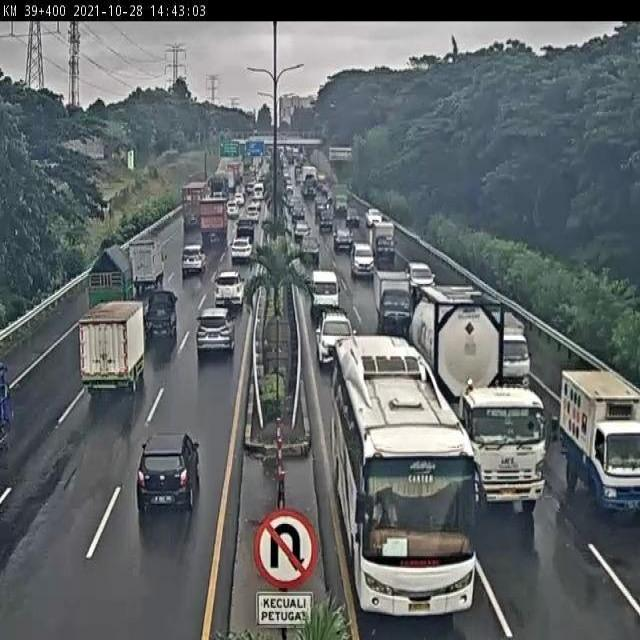bus-l-: (332, 337, 482, 619)
car: (135, 428, 201, 516), (318, 312, 356, 365), (196, 307, 235, 356), (310, 269, 340, 316), (214, 274, 246, 306), (350, 243, 376, 280), (407, 263, 436, 293), (182, 244, 206, 276), (300, 235, 321, 264), (333, 227, 354, 253), (230, 235, 251, 260), (236, 216, 257, 237)
truck-s-: (560, 366, 640, 514), (80, 300, 149, 401), (86, 243, 134, 313), (499, 302, 531, 394), (376, 271, 416, 336), (129, 237, 169, 287), (371, 220, 399, 264)
truck-xl-: (409, 288, 557, 519)
